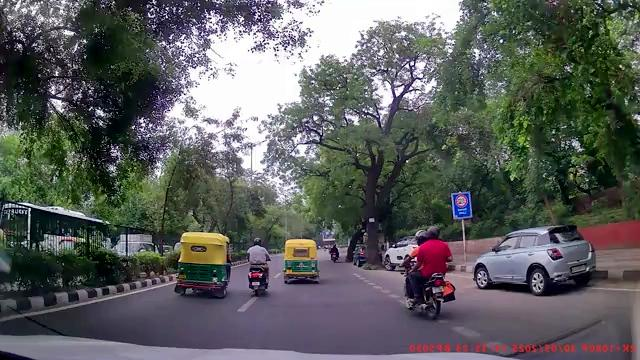motorcycle_with_helmet: (246, 237, 271, 296)
passenger_with_helmet: (403, 224, 455, 320)
